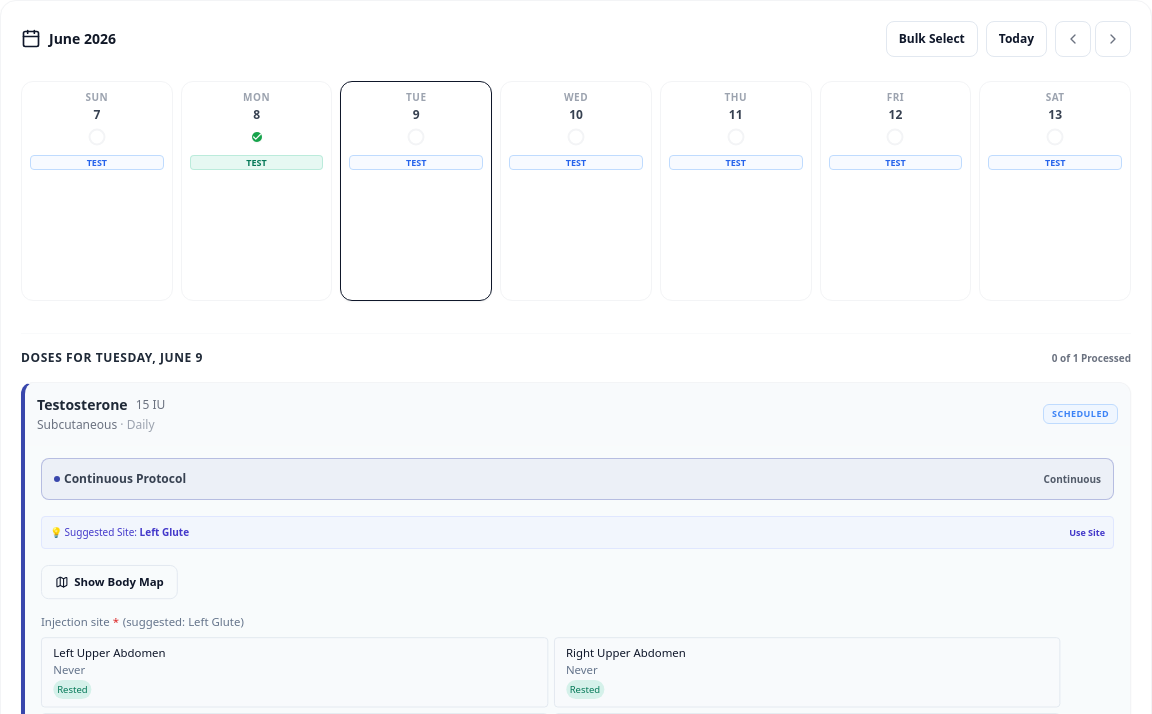
Scenario: TrackerCalendar Component UI/UX with JSDOM › labels site history relative to the selected calendar date, not loggedAt or stale server metadata
The width and height of the screenshot is (1152, 714).
Click the button with aria-label "June 9".
click(416, 191)  # box [340,81,492,301]
(page scrolled)
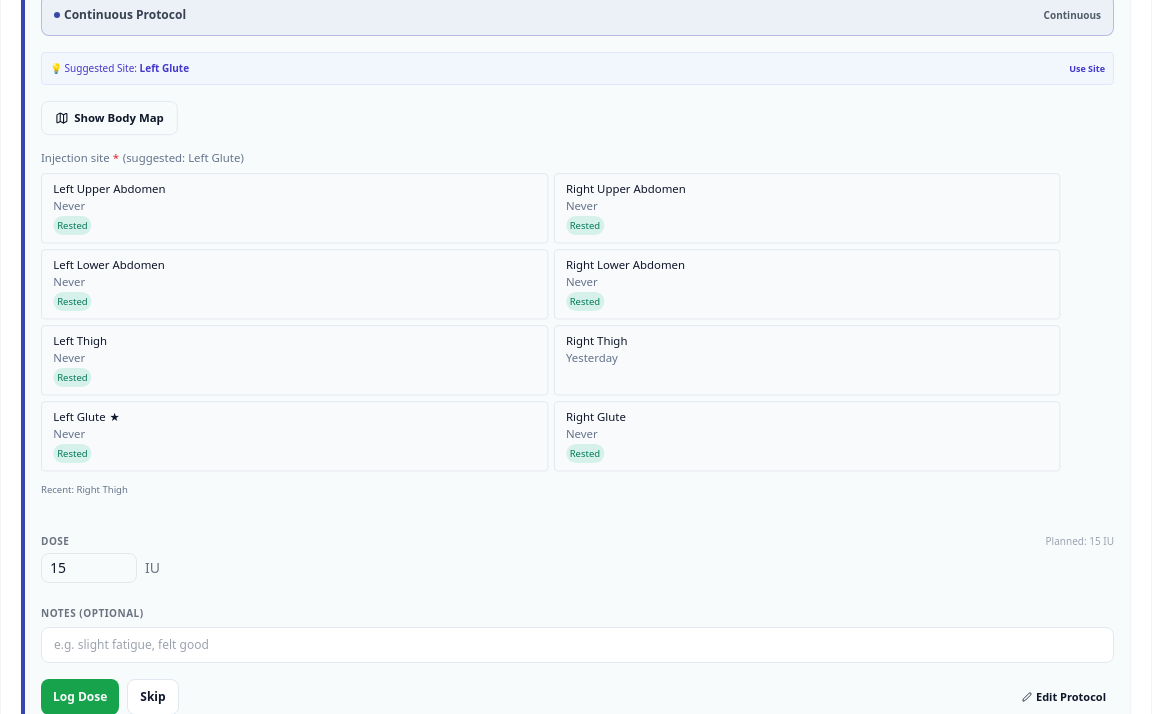
Expected: the text "Yesterday" is shown, [566,351,618,366]
Expected: the text "Today" is not shown
Click the button "Right Thigh Yesterday".
click(597, 341)  # box [554,325,1060,396]
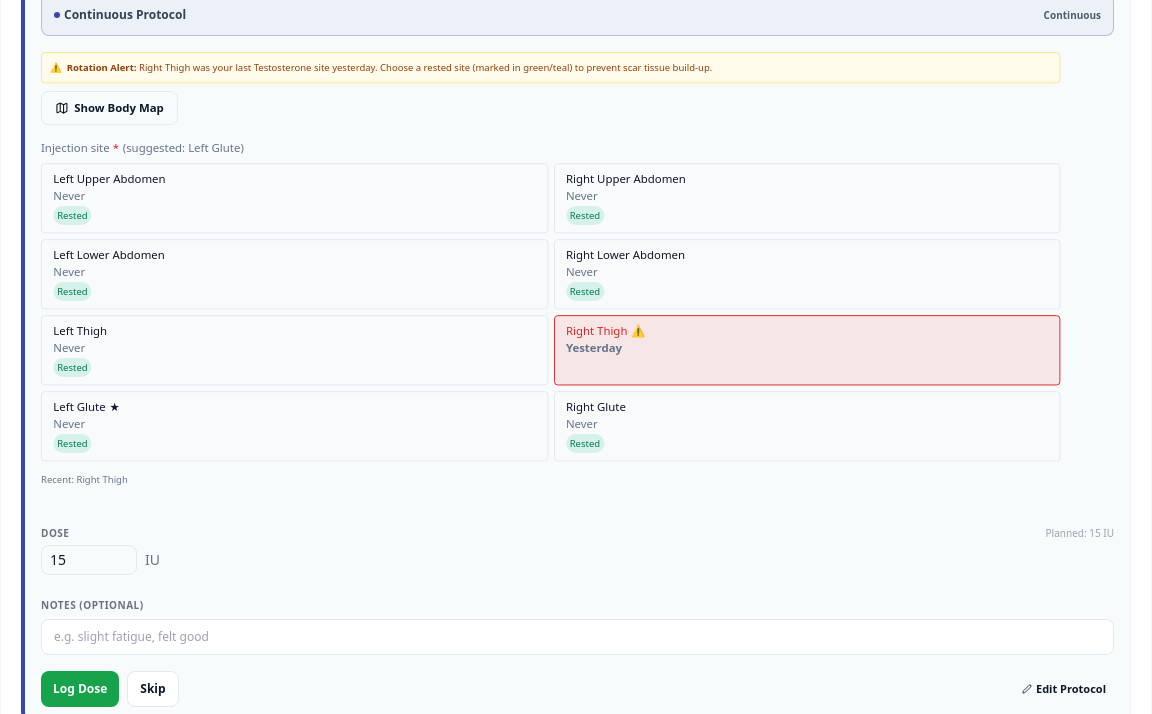
Expected: the text "Right Thigh was your last Testosterone site yesterday" is shown, [67,61,712,75]
